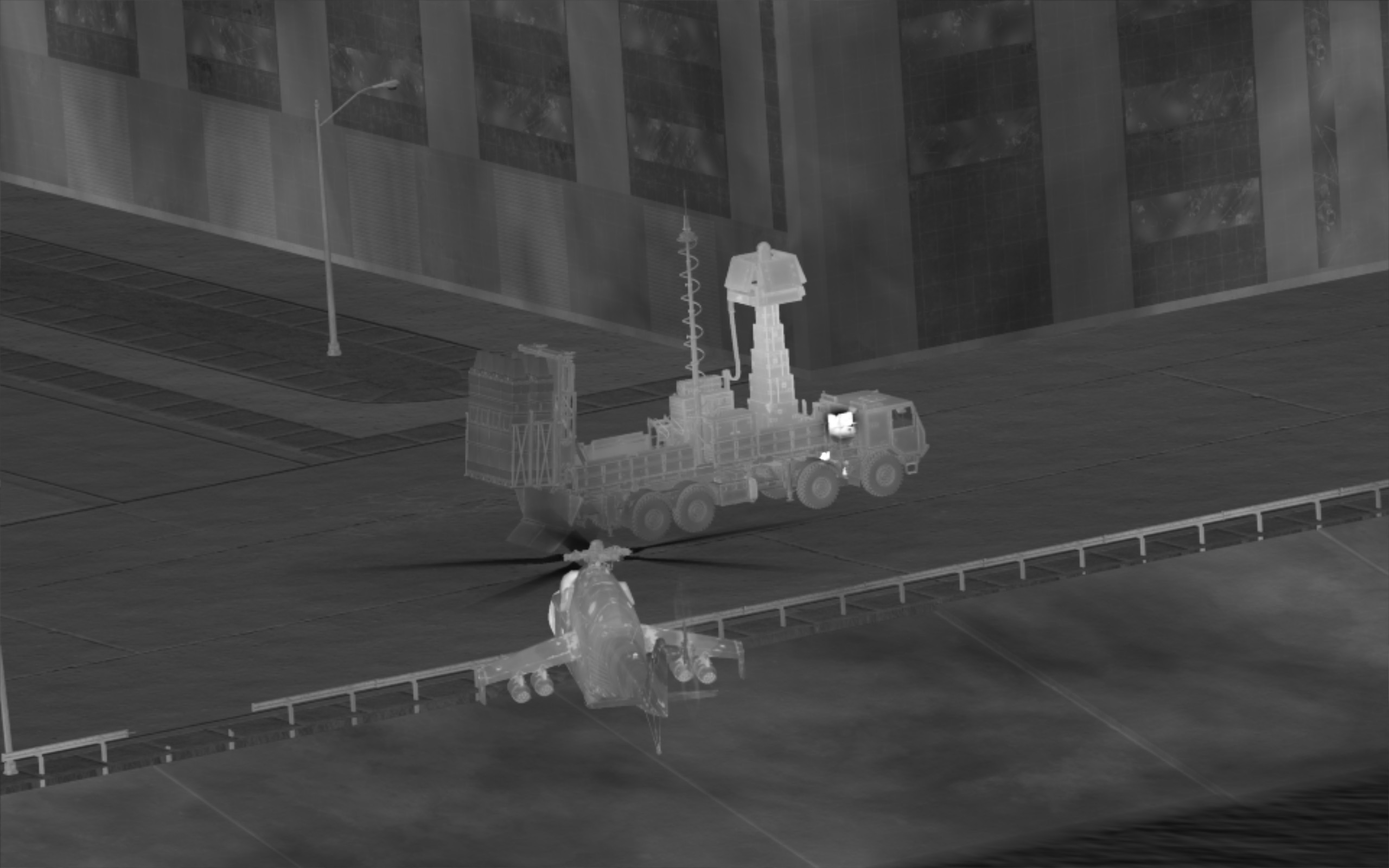mi24: (470, 541, 750, 718)
spaa_TEL: (461, 218, 931, 559)
